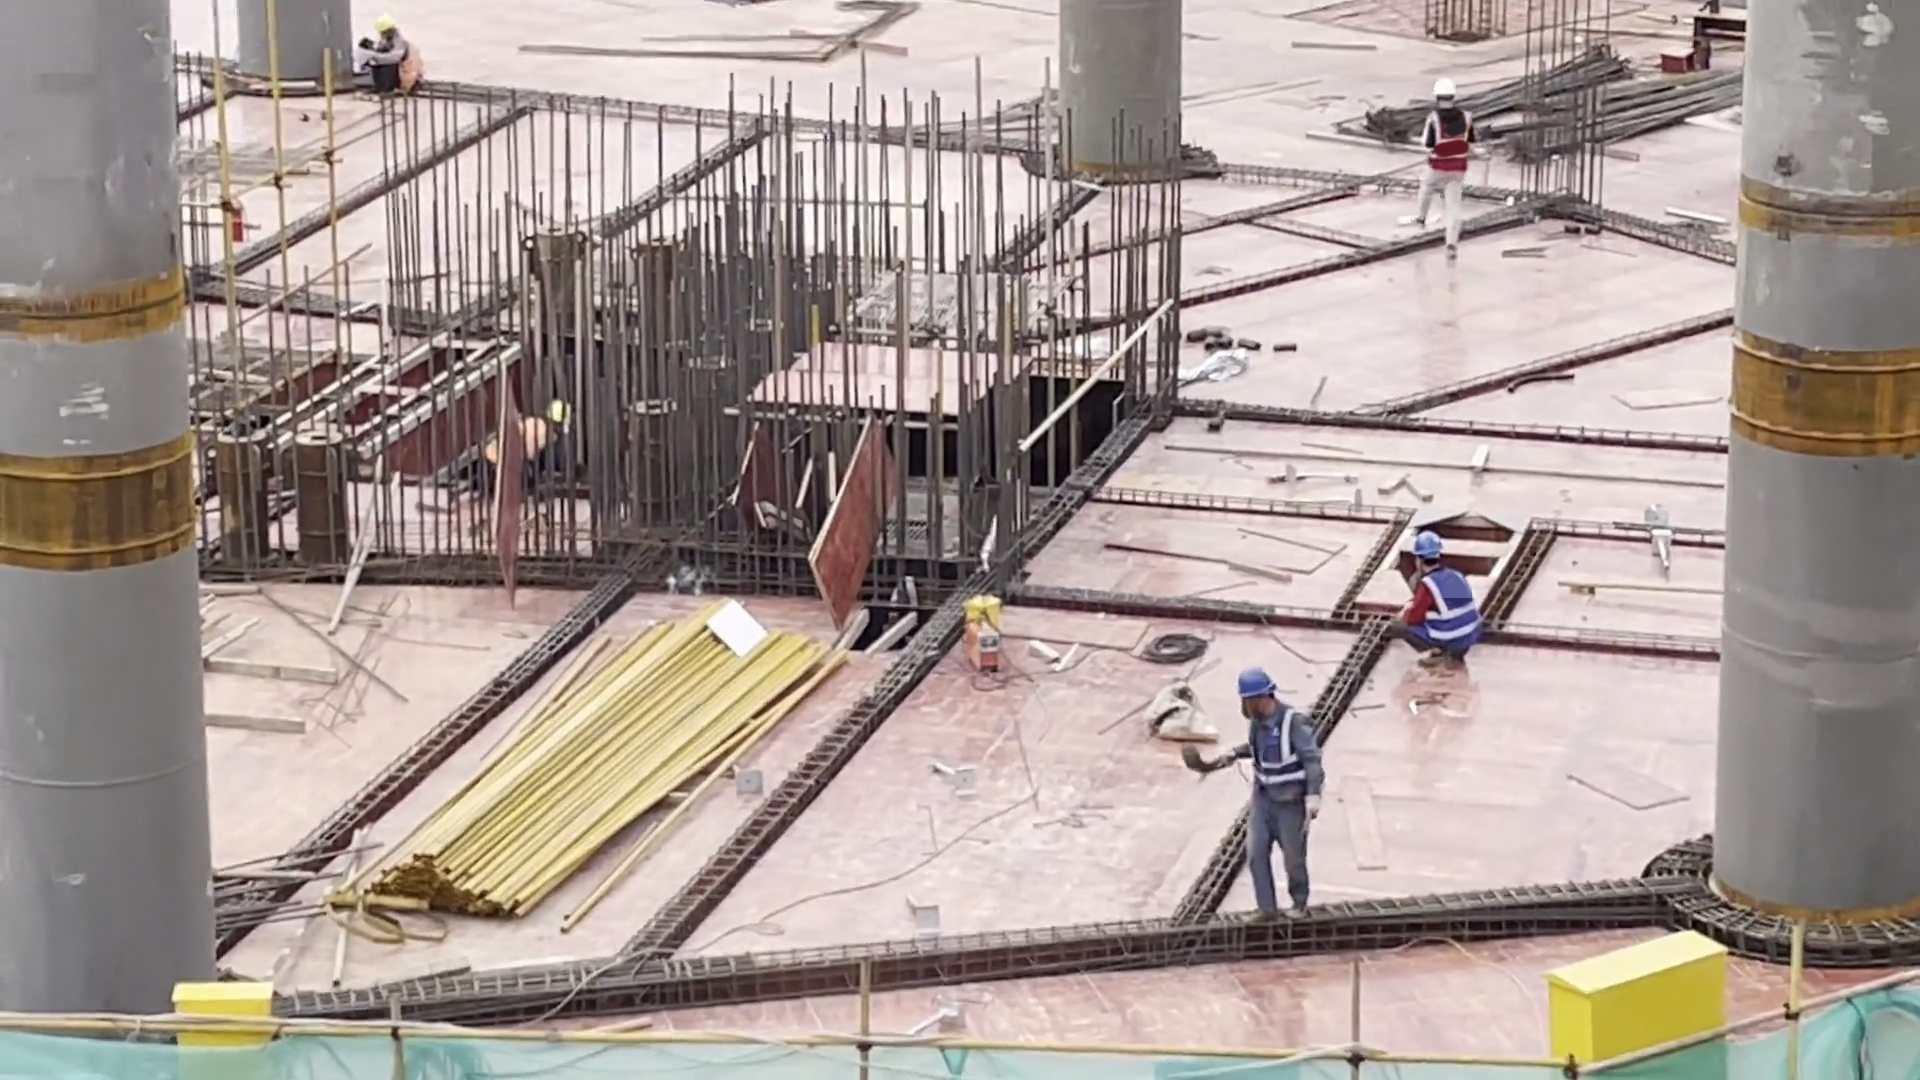ebox: (1551, 928, 1733, 1080), (171, 976, 273, 1080)
helmet: (1237, 665, 1277, 697), (1414, 529, 1445, 558), (1433, 79, 1457, 97), (374, 15, 394, 31)
person: (1218, 661, 1322, 930), (1404, 72, 1477, 268), (1382, 530, 1480, 668), (357, 12, 426, 101)
vest: (1248, 703, 1318, 803), (1419, 569, 1481, 655), (1427, 106, 1469, 174)
